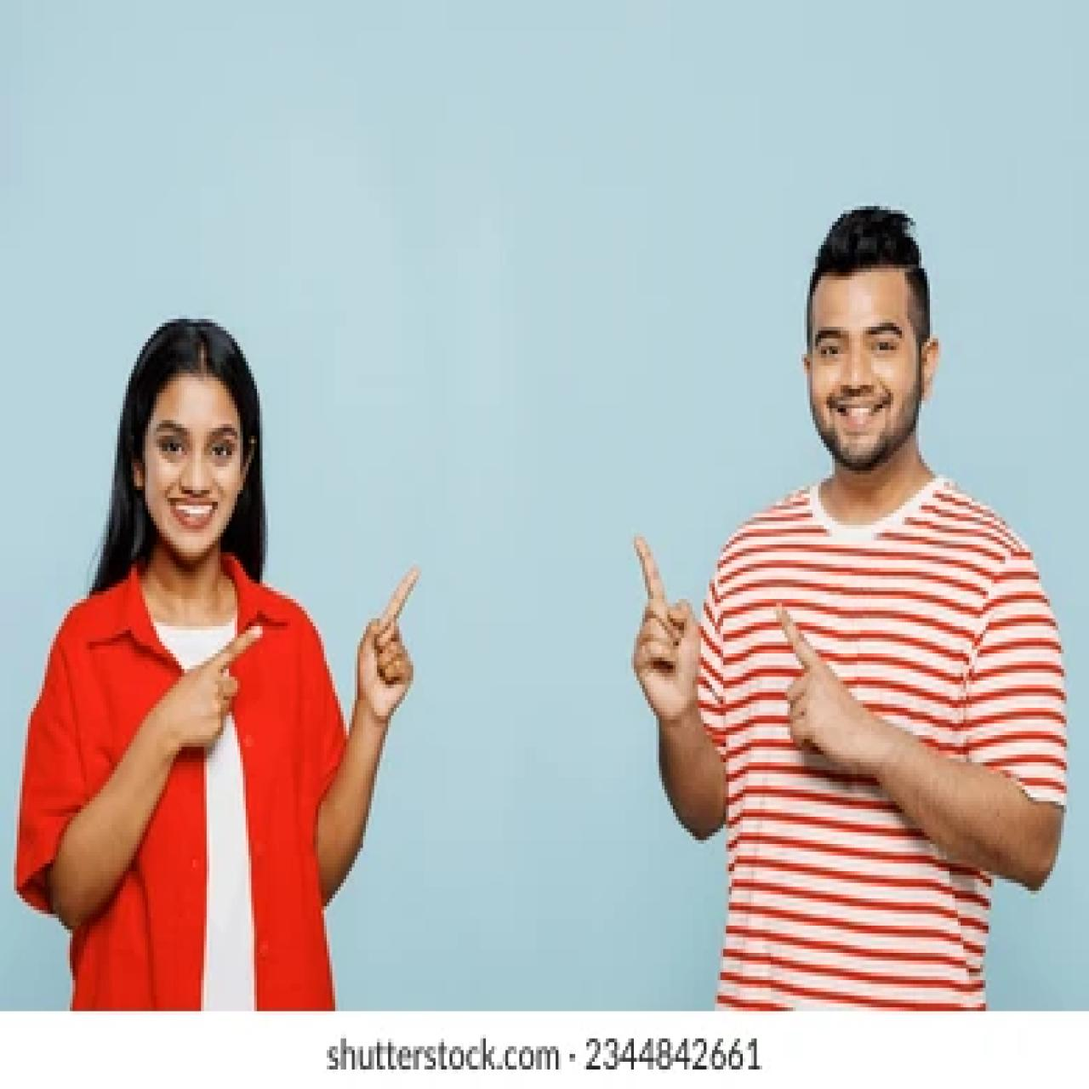NO_Safety_Vest: (732, 490, 992, 1002), (64, 580, 318, 1013)
Person: (619, 188, 1067, 991), (14, 288, 414, 1016)
